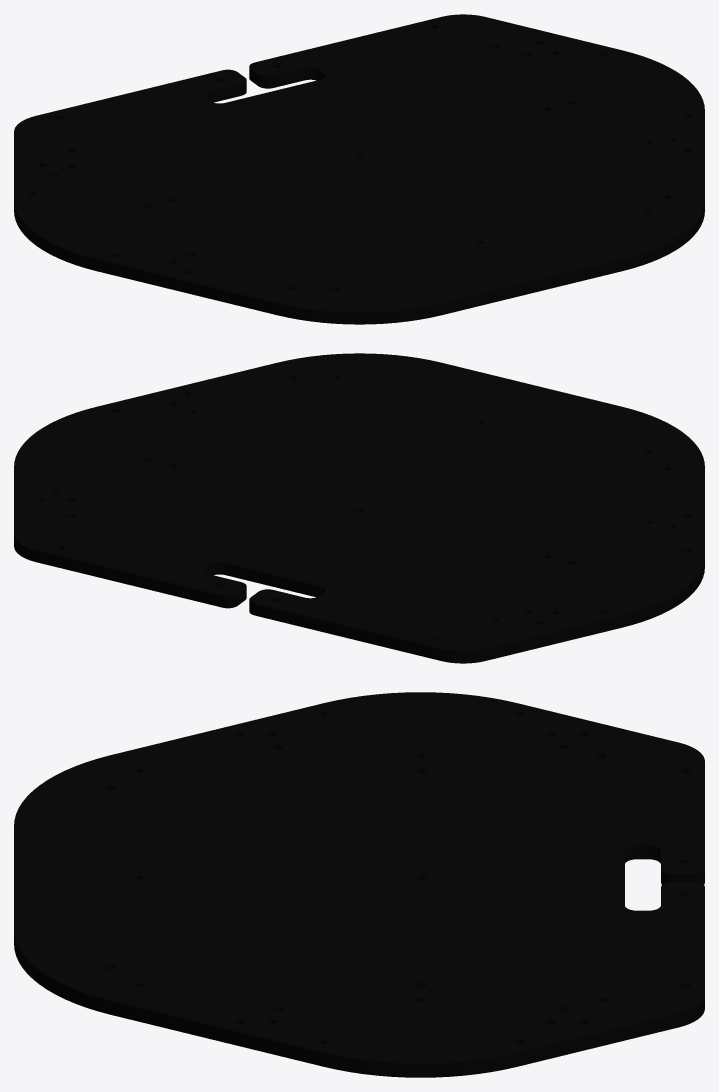
File: disk_01_hex.dae
3 renders of one model, top to bottom at view 1: azimuth 30°, elevation 25°; view 2: azimuth 150°, elevation 25°; view 3: azimuth 270°, elevation 25°, orthographic. The views are drawn at different scales.
Parts seen in each view (by area): view 1: node; view 2: node; view 3: node.
Boxes of the visible parts, box(x1,y1,x2,y2) form: node: box(14, 14, 704, 324); node: box(14, 353, 704, 663); node: box(14, 692, 704, 1077).
Size of the model in its own units: 340 by 6 by 267.
Materials: 1 (1 with a texture image).
